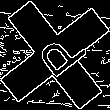P_SW: (24, 25, 86, 85)
